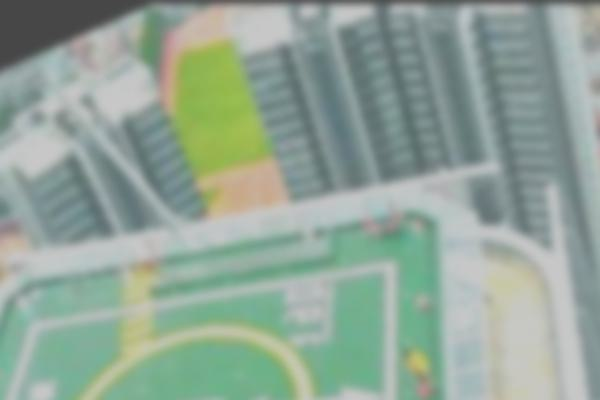Apron: (48, 320, 326, 400)
